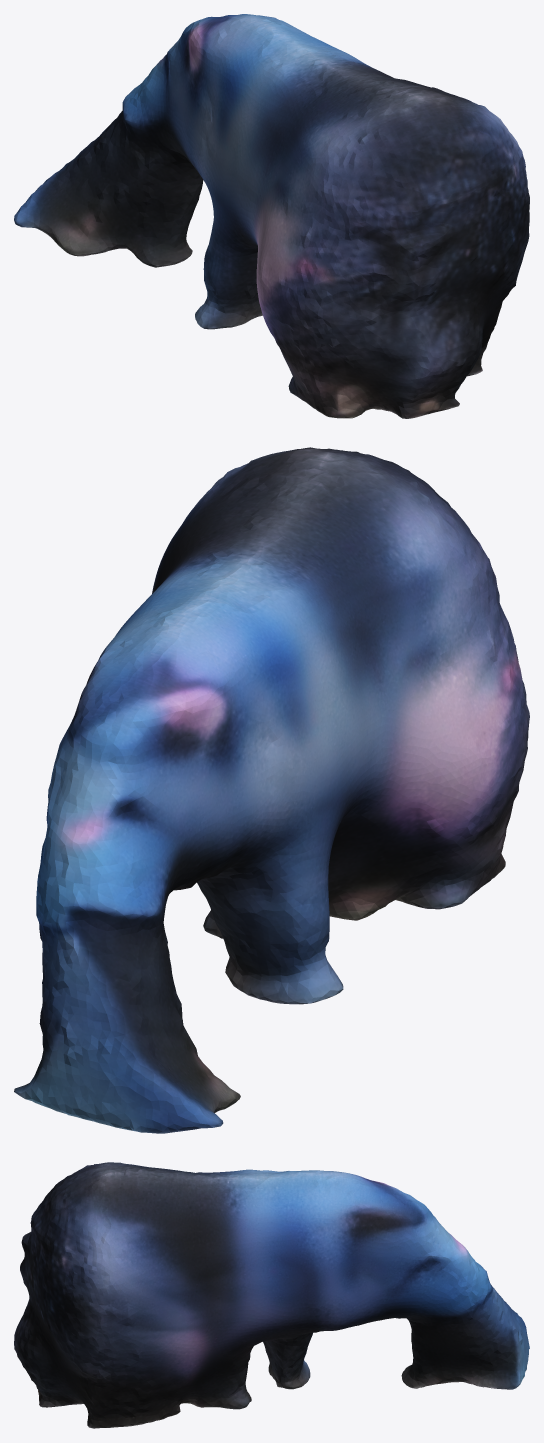
File: IMG_SEG_54.glb
3 renders of one model, top to bottom at view 1: azimuth 30°, elevation 25°; view 2: azimuth 150°, elevation 25°; view 3: azimuth 270°, elevation 25°, orthographic. The views are drawn at different scales.
Bounding box in the file's own units: 0.5055 × 0.508 × 1.
1 material, 1 textured.
